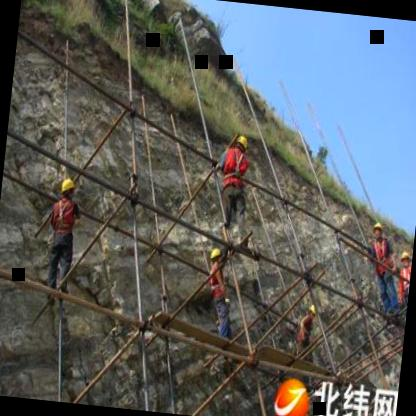helmet: (56, 172, 77, 202), (231, 131, 252, 160), (204, 244, 224, 269), (396, 249, 412, 273), (369, 218, 385, 241), (306, 300, 319, 320)
